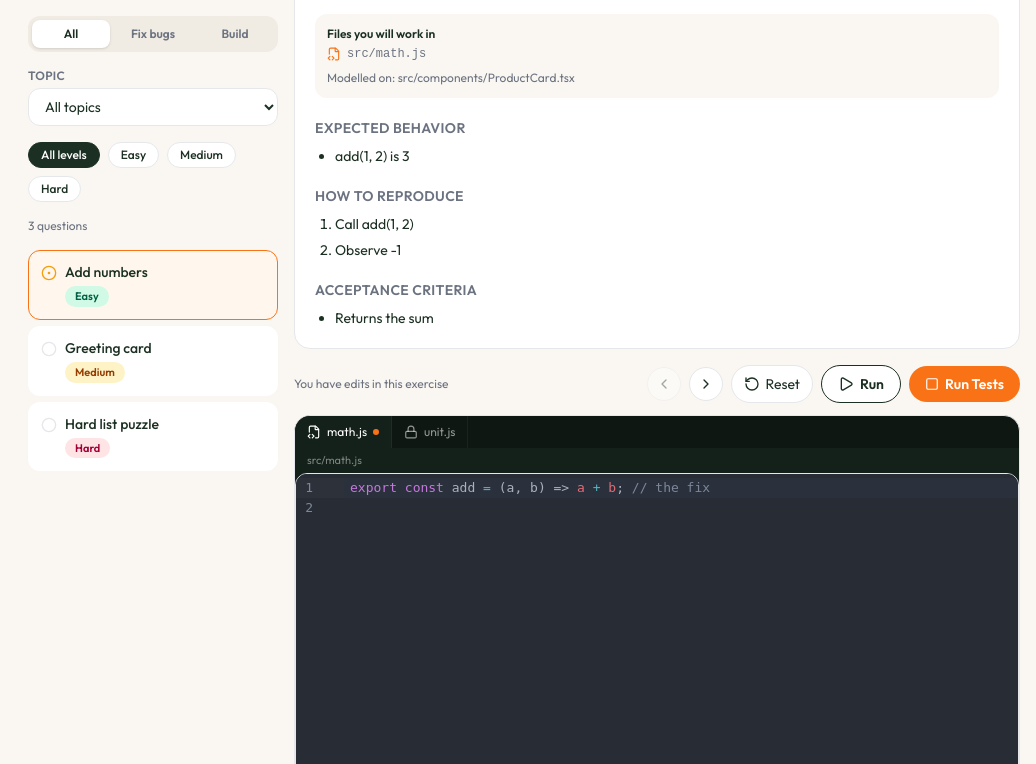
it: running tests › passes after the fix and marks the exercise solved
(page scrolled)
Click the button "Run Tests" at [964, 384], box [909,366,1020,402]
(page scrolled)
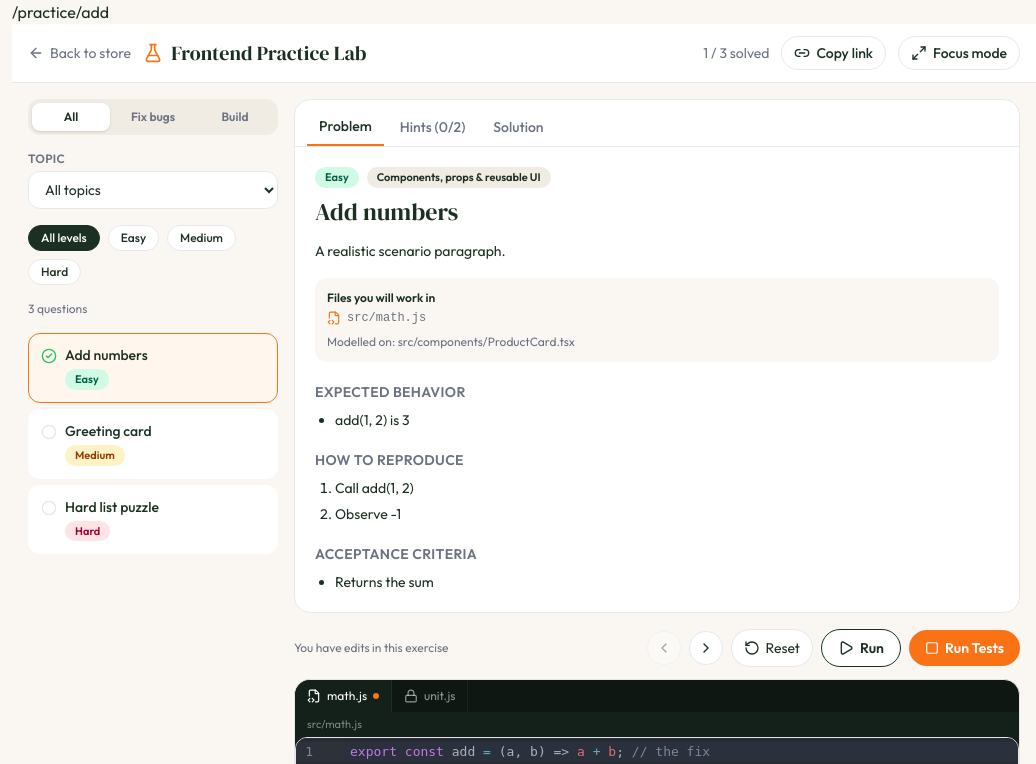
Check: the text with test id "progress" reads "1 / 3 solved", box [703,43,770,63]
